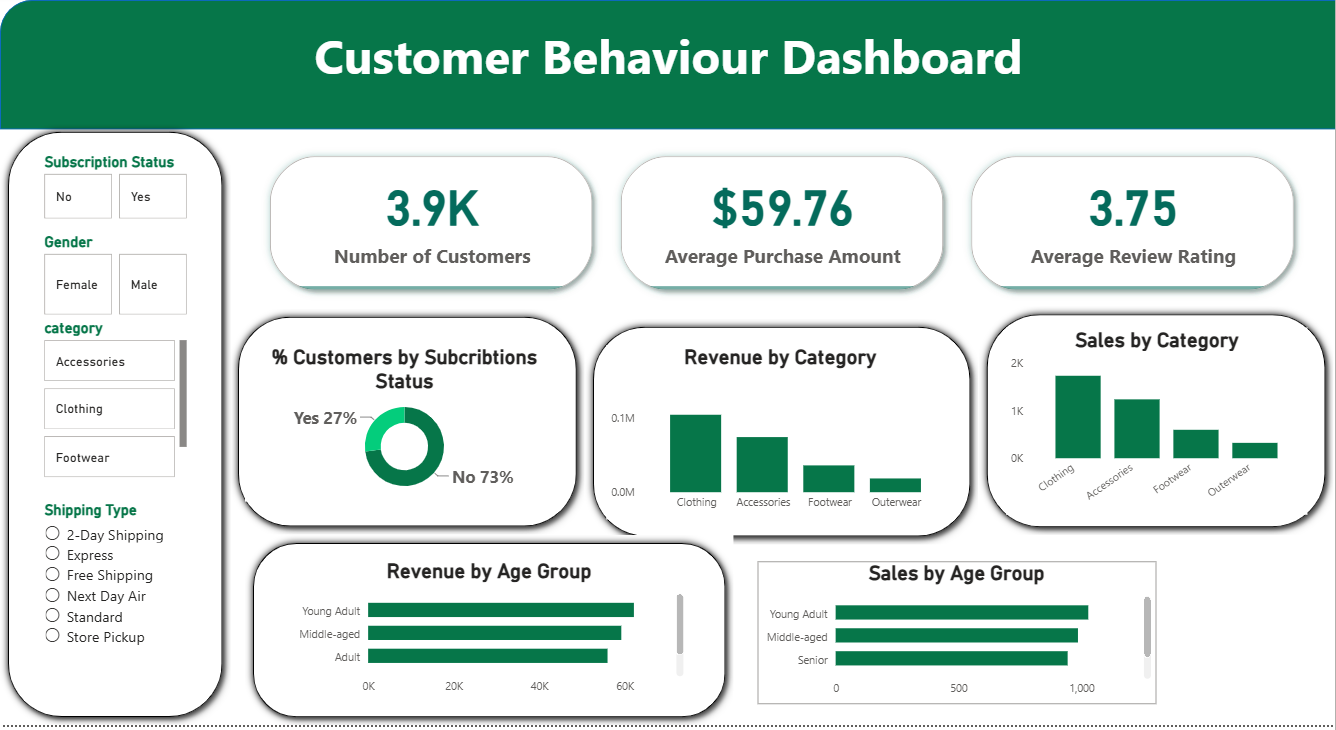

The dashboard page shown, as its layout file describes it:
{"tool":"powerbi","page":{"name":"Customer behaviour","canvas":[1500,820],"ordinal":0},"visuals":[{"type":"cardVisual","fields":{"Data":["customer_behavior customer.Number of Customers","customer_behavior customer.Average Purchase Amount","customer_behavior customer.Average Review Rating"]},"box":[286.2,164.8,1184.5,184.7],"z":0},{"type":"shape","box":[0,5.1,1798.9,145.4],"z":1000},{"type":"textbox","box":[102.2,26.1,1297.5,102.2],"z":2000},{"type":"shape","box":[259,353.2,398.5,253.6],"z":3000},{"type":"donutChart","title":"% Customers by Subcribtions Status","fields":{"Category":["customer_behavior customer.subscription_status"],"Y":["CountNonNull(customer_behavior customer.customer_id)"]},"box":[275.3,393,358.6,175.7],"z":4000},{"type":"shape","box":[657.5,364,441.9,253.6],"z":5000},{"type":"shape","box":[1099.4,349.6,398.5,257.2],"z":6000},{"type":"clusteredColumnChart","title":"Revenue by Category","fields":{"Y":["Sum(customer_behavior customer.purchase_amount)"],"Category":["customer_behavior customer.category"]},"box":[681,393,391.2,195.6],"z":7000},{"type":"clusteredColumnChart","title":"Sales by Category","fields":{"Category":["customer_behavior customer.category"],"Y":["CountNonNull(customer_behavior customer.customer_id)"]},"box":[1130.2,373.1,338.7,210.1],"z":8000},{"type":"shape","box":[0,144.9,259,675.6],"z":9000},{"type":"advancedSlicerVisual","fields":{"Values":["customer_behavior customer.subscription_status"]},"box":[45.3,177.5,170.3,79.7],"z":10000},{"type":"advancedSlicerVisual","fields":{"Values":["customer_behavior customer.gender"]},"box":[45.3,266.2,170.3,97.8],"z":11000},{"type":"advancedSlicerVisual","fields":{"Values":["customer_behavior customer.category"]},"box":[45.3,364,170.3,184.7],"z":12000},{"type":"listSlicer","fields":{"Values":["customer_behavior customer.shipping_type"]},"box":[45.3,568.7,155.8,213.7],"z":13000},{"type":"shape","box":[275.3,606.7,548.8,213.7],"z":14000},{"type":"clusteredBarChart","title":"Revenue by Age Group","fields":{"Y":["Sum(customer_behavior customer.purchase_amount)"],"Category":["customer_behavior customer.age_group"]},"box":[326,633.9,447.4,161.2],"z":15000},{"type":"clusteredBarChart","title":"Sales by Age Group","fields":{"Category":["customer_behavior customer.age_group"],"Y":["CountNonNull(customer_behavior customer.customer_id)"]},"box":[851.3,635.7,447.4,161.2],"z":16000}]}

Visuals, with their boxes in screenshot pixels (x1, y1, x2, y2), scaled from the page's 1500x820 canvas onto the 1336x730 screenshot:
cardVisual - customer_behavior customer.Number of Customers x customer_behavior customer.Average Purchase Amount: locate(255, 147, 1310, 311)
shape: locate(0, 5, 1335, 134)
textbox: locate(91, 23, 1247, 114)
shape: locate(231, 314, 586, 540)
"% Customers by Subcribtions Status" donutChart: locate(245, 350, 565, 506)
shape: locate(586, 324, 979, 550)
shape: locate(979, 311, 1334, 540)
"Revenue by Category" clusteredColumnChart: locate(607, 350, 955, 524)
"Sales by Category" clusteredColumnChart: locate(1007, 332, 1308, 519)
shape: locate(0, 129, 231, 729)
advancedSlicerVisual - customer_behavior customer.subscription_status: locate(40, 158, 192, 229)
advancedSlicerVisual - customer_behavior customer.gender: locate(40, 237, 192, 324)
advancedSlicerVisual - customer_behavior customer.category: locate(40, 324, 192, 488)
listSlicer - customer_behavior customer.shipping_type: locate(40, 506, 179, 697)
shape: locate(245, 540, 734, 729)
"Revenue by Age Group" clusteredBarChart: locate(290, 564, 689, 708)
"Sales by Age Group" clusteredBarChart: locate(758, 566, 1157, 709)
